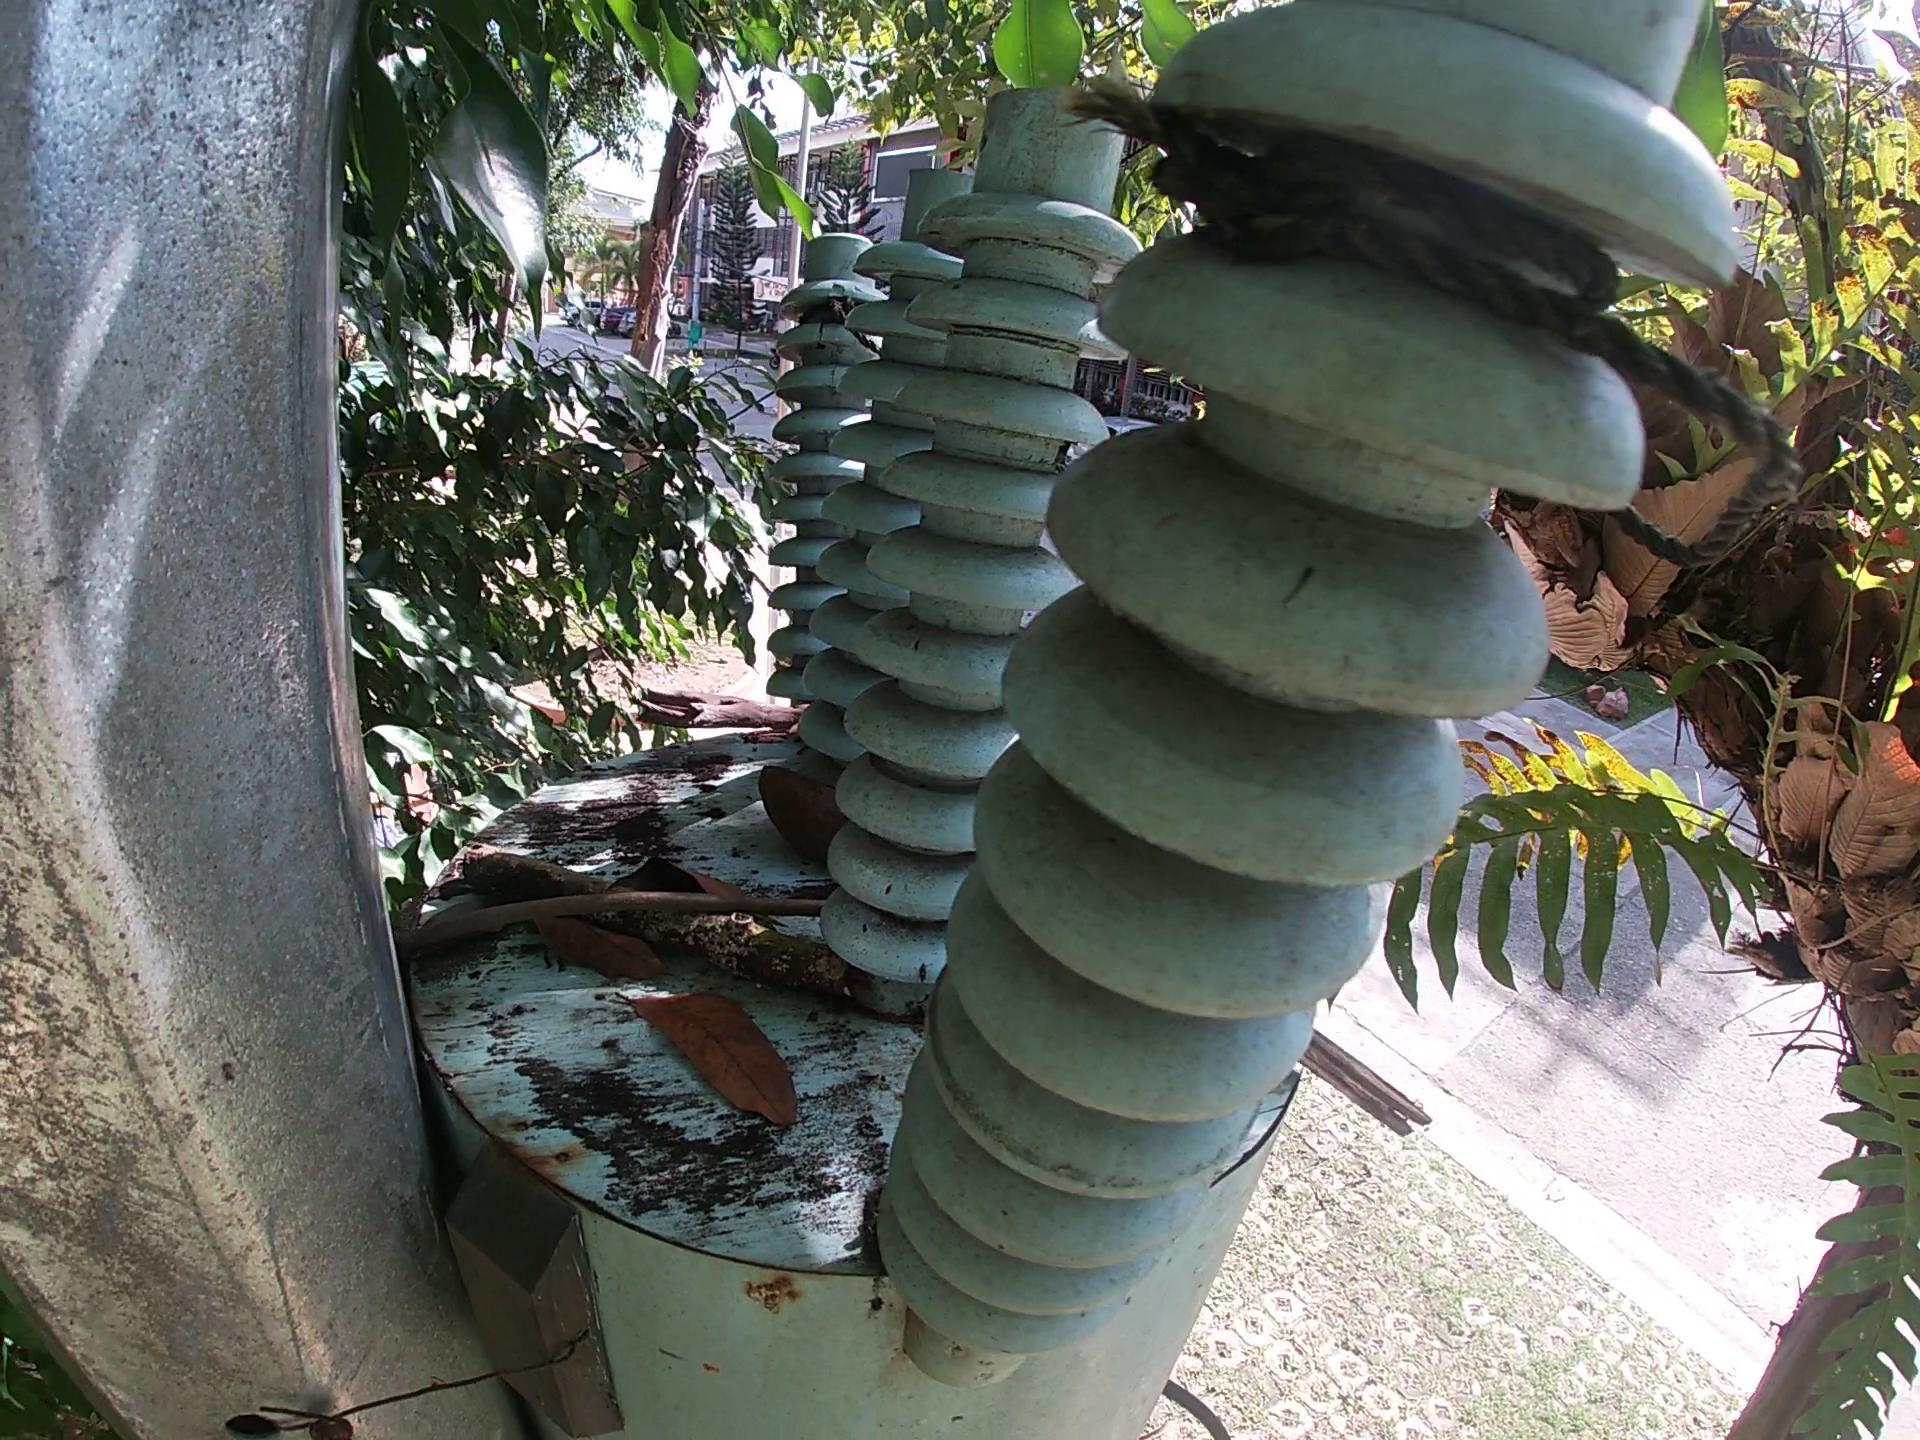leaf: (612, 986, 806, 1134), (532, 915, 674, 982), (605, 858, 756, 897)
mahogany fruit: (751, 759, 853, 867)
tree branch: (461, 847, 859, 1004), (389, 892, 838, 959), (1297, 1023, 1435, 1144), (627, 684, 806, 747)
